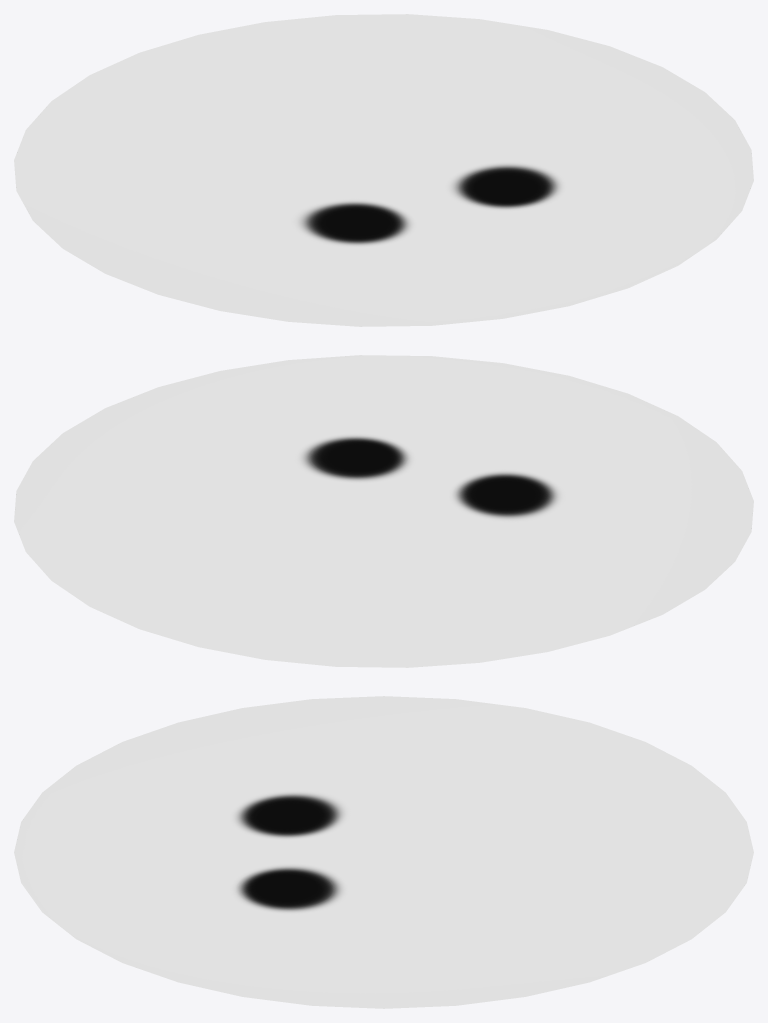
The model's file is ghost.fbx.
3 renders of one model, top to bottom at view 1: azimuth 30°, elevation 25°; view 2: azimuth 150°, elevation 25°; view 3: azimuth 270°, elevation 25°, orthographic.
Parts seen in each view (by area): view 1: Circle; view 2: Circle; view 3: Circle.
Part boxes in pixels (x1=…): Circle: x1=14, y1=14, x2=753, y2=326; Circle: x1=14, y1=355, x2=753, y2=667; Circle: x1=14, y1=696, x2=753, y2=1008.
Bounding box in the file's own units: 200 × 3.26e-05 × 200.
Materials: 1 (1 with a texture image).
